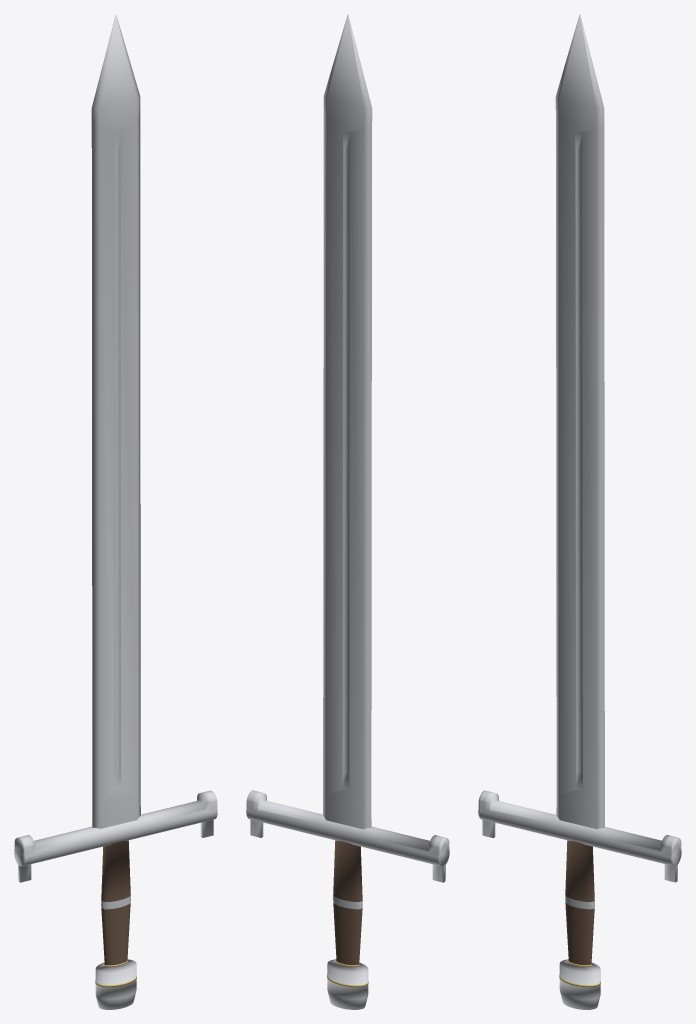
File: Weapon_MS_Sword.glb
3 views of the same model, side by side, from view 1: azimuth 30°, elevation 25°; view 2: azimuth 150°, elevation 25°; view 3: azimuth 330°, elevation 25° (orthographic).
Visible parts, largest first — view 1: Weapon_MS_Sword; view 2: Weapon_MS_Sword; view 3: Weapon_MS_Sword.
Boxes of the visible parts, x1,y1,x2,y2 form: Weapon_MS_Sword: (14, 14, 217, 1009); Weapon_MS_Sword: (246, 14, 449, 1009); Weapon_MS_Sword: (478, 14, 681, 1009).
Size of the model in its own units: 0.235 by 1.15 by 0.03.
